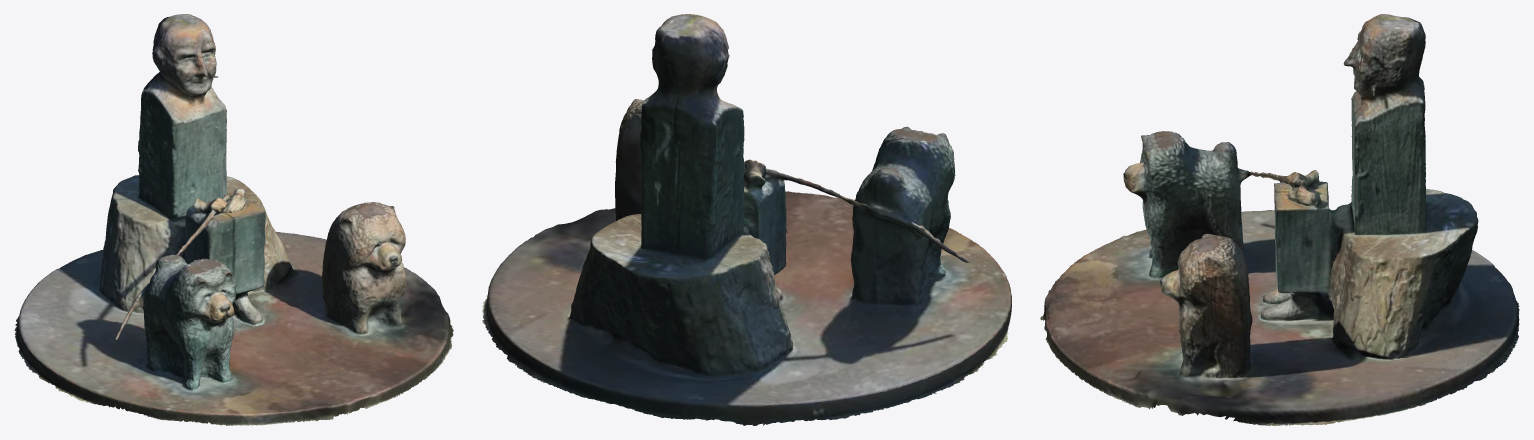
Rendered from preview.glb.
The picture shows the model from 3 angles, left to right: view 1: azimuth 30°, elevation 25°; view 2: azimuth 150°, elevation 25°; view 3: azimuth 270°, elevation 25°; orthographic projection. The views are drawn at different scales.
Visible parts, largest first — view 1: Object_3; view 2: Object_3; view 3: Object_3.
Boxes of the visible parts, bbox=[...] form: Object_3: bbox=[14, 14, 453, 425]; Object_3: bbox=[482, 14, 1011, 425]; Object_3: bbox=[1040, 14, 1519, 425].
Bounding box in the file's own units: 21.15 × 14.84 × 20.95.
1 material, 1 textured.
